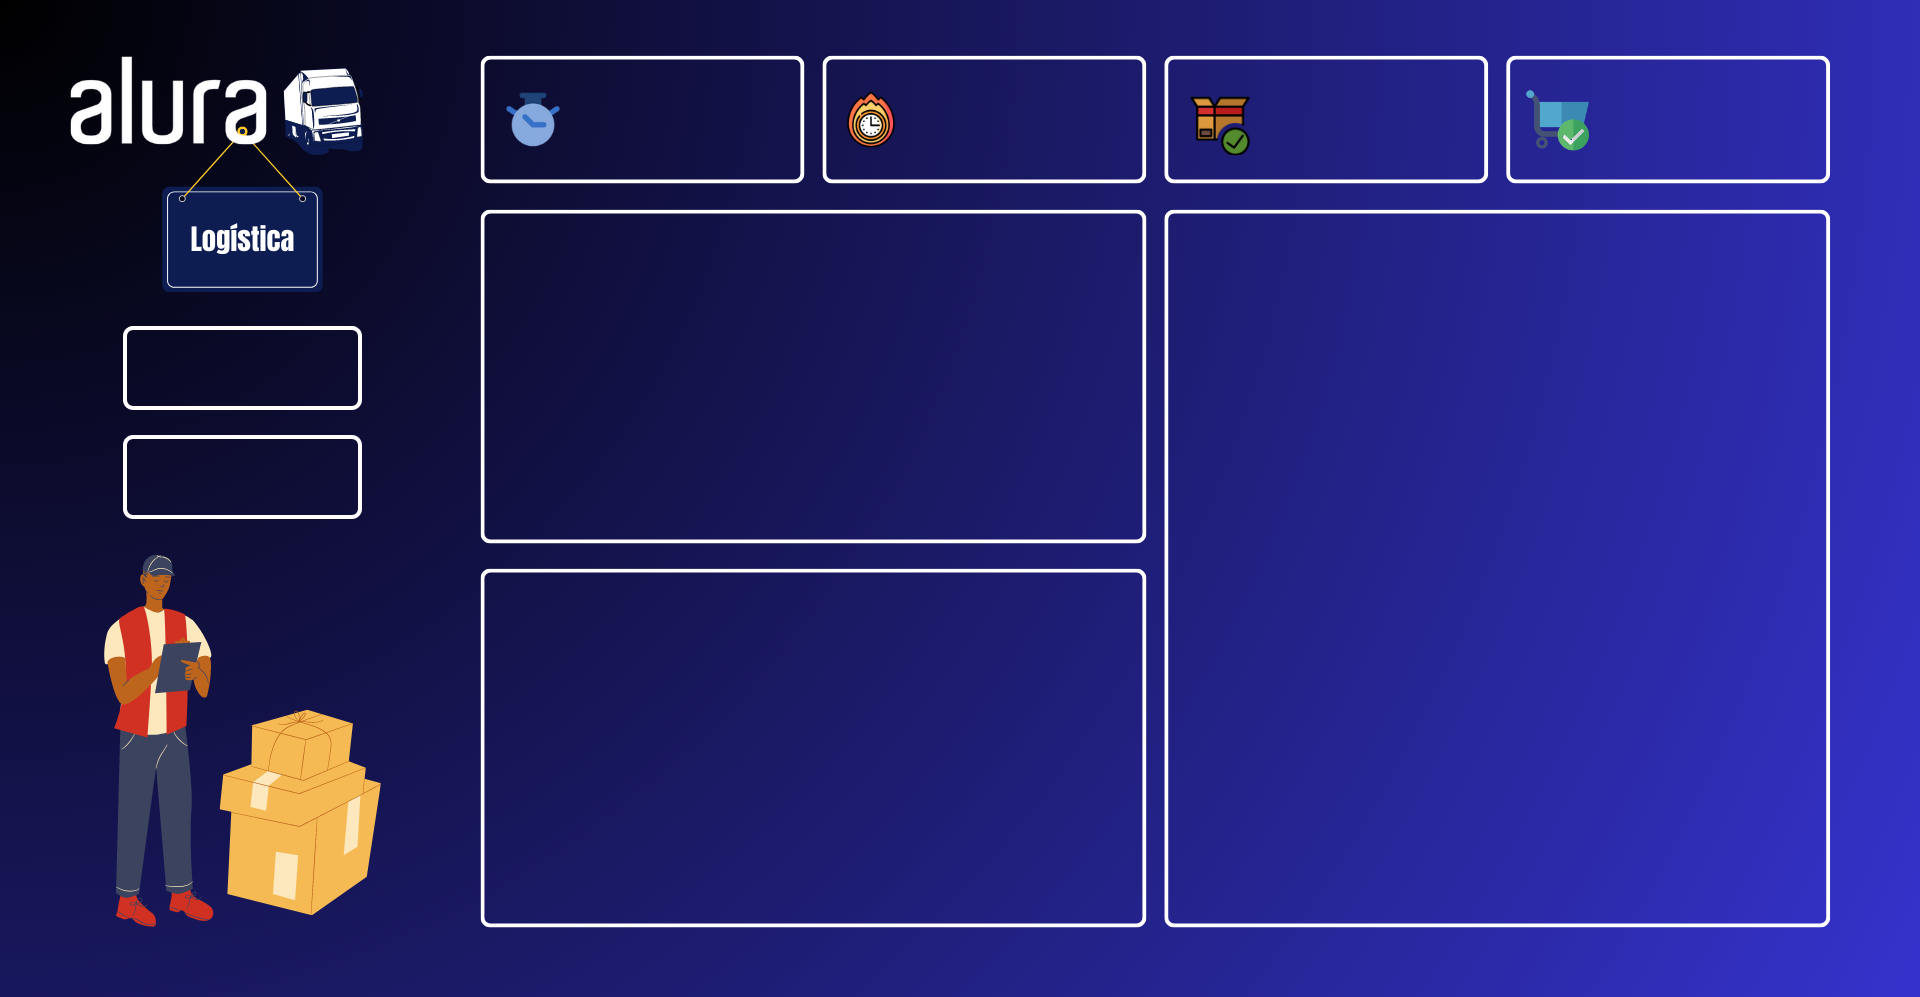

This screenshot's page, from the dashboard's own definition file:
{"tool":"powerbi","page":{"name":"Logística","canvas":[1280,720],"ordinal":0},"visuals":[{"type":"card","fields":{"Values":["Medidas.Atrasados"]},"box":[615.5,33.6,154.5,88.2],"z":0},{"type":"card","fields":{"Values":["Medidas.No Prazo"]},"box":[364.5,38.2,171.8,80],"z":1000},{"type":"card","fields":{"Values":["Medidas.Total de Pedidos"]},"box":[1090.9,35.5,160,82.7],"z":2000},{"type":"card","fields":{"Values":["Medidas.Entregues"]},"box":[852.7,35.5,159.1,85.5],"z":3000},{"type":"map","fields":{"Category":["Pedidos.UF da entrega","Pedidos.Latitude","Pedidos.Longitude"],"Size":["Sum(Pedidos.Quantidade)"],"Series":["Pedidos.País"]},"box":[812.7,191.8,457.3,474.5],"z":4000},{"type":"areaChart","fields":{"Category":["Pedidos.Data da compra.Variation.Hierarquia de datas.Mês"],"Y":["Avg(Pedidos.S2D)"]},"box":[326.4,199.1,446.4,181.8],"z":5000},{"type":"clusteredColumnChart","fields":{"Category":["Estoque.Data atualização.Variation.Hierarquia de datas.Ano"],"Y":["Avg(Estoque.Quantidade)"]},"box":[331.3,471.9,437.9,194.3],"z":6000},{"type":"actionButton","box":[62.7,331.8,156.4,49.1],"z":7000}]}

Visuals, with their boxes on the page's 1280x720 design canvas (x1, y1, x2, y2). These are canvas units, not pixel positions in the 1920x997 screenshot, which may show the page scaled, cropped or inside an application window:
card - Medidas.Atrasados: box=[616, 34, 770, 122]
card - Medidas.No Prazo: box=[364, 38, 536, 118]
card - Medidas.Total de Pedidos: box=[1091, 36, 1251, 118]
card - Medidas.Entregues: box=[853, 36, 1012, 121]
map - Pedidos.UF da entrega x Pedidos.Latitude: box=[813, 192, 1270, 666]
areaChart - Pedidos.Data da compra.Variation.Hierarquia de datas.Mês x Avg(Pedidos.S2D): box=[326, 199, 773, 381]
clusteredColumnChart - Estoque.Data atualização.Variation.Hierarquia de datas.Ano x Avg(Estoque.Quantidade): box=[331, 472, 769, 666]
actionButton: box=[63, 332, 219, 381]
